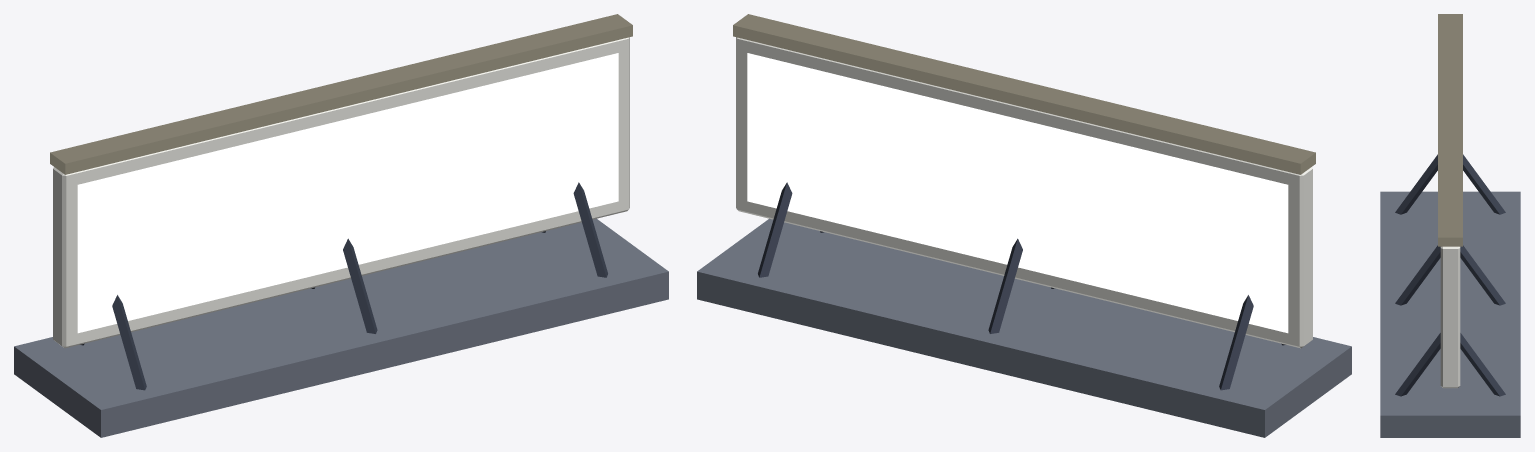
File: ad-board.glb
The picture shows the model from 3 angles, left to right: view 1: azimuth 30°, elevation 25°; view 2: azimuth 150°, elevation 25°; view 3: azimuth 270°, elevation 25°; orthographic projection. The views are drawn at different scales.
Parts seen in each view (by area): view 1: ad-board; view 2: ad-board; view 3: ad-board.
Part boxes in pixels (x1=…): ad-board: x1=14, y1=14, x2=668, y2=437; ad-board: x1=697, y1=14, x2=1351, y2=437; ad-board: x1=1380, y1=14, x2=1520, y2=437.
Bounding box in the file's own units: 6.4 × 2.7 × 1.7.
Materials: 3 (2 with a texture image).
